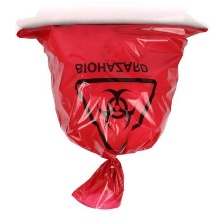plastic_bag: (8, 22, 212, 214)
